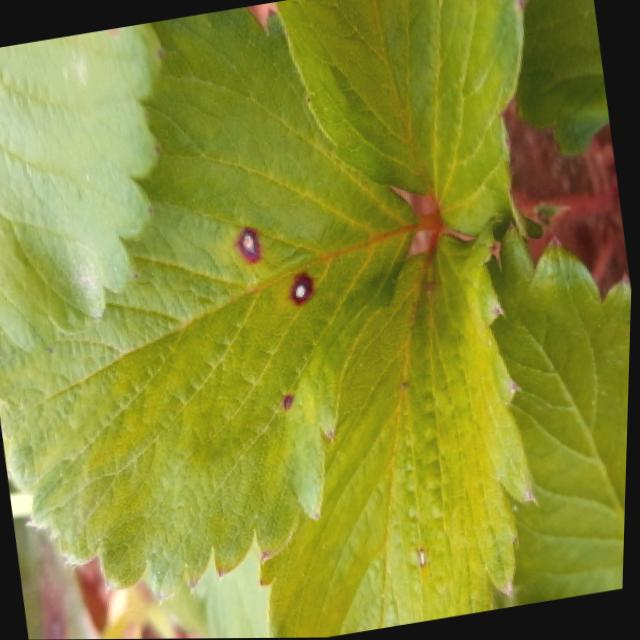Leaf Spot: (0, 5, 418, 603), (261, 221, 541, 638), (274, 0, 525, 241), (482, 220, 633, 608), (0, 22, 164, 356)
